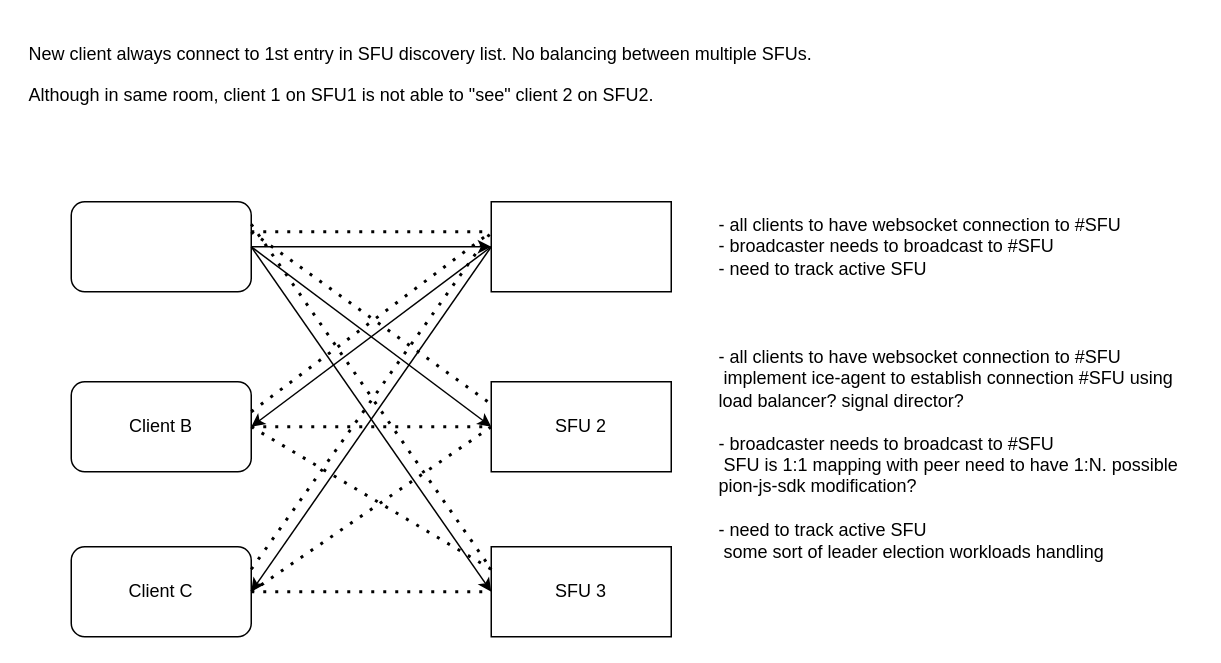
Some shapes in this 1221 by 663 pixel diagram are drawn without their labels. Each missing label, with the centre of its shape:
"Client A" belongs at pixel 160 246.
"SFU 1" belongs at pixel 580 246.
